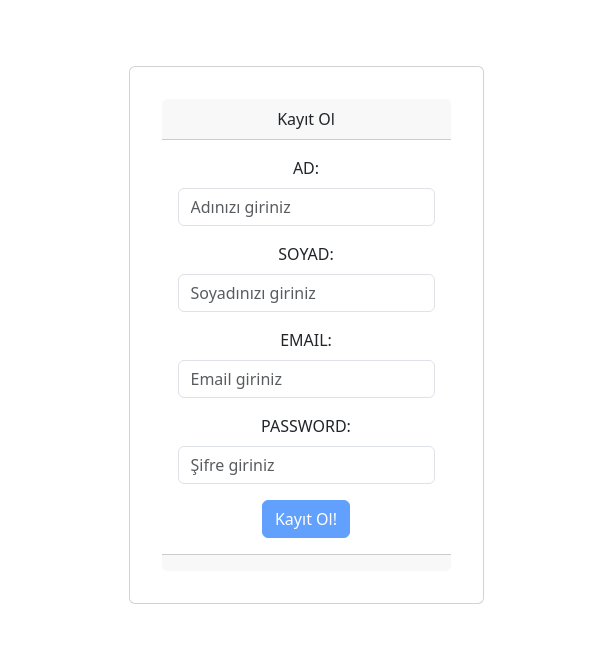
Register Page Validations › should display all error messages for invalid inputs
Type "A" into the field labelled "AD:" at (307, 207), box top-left (178, 188), bottom-right (435, 226)
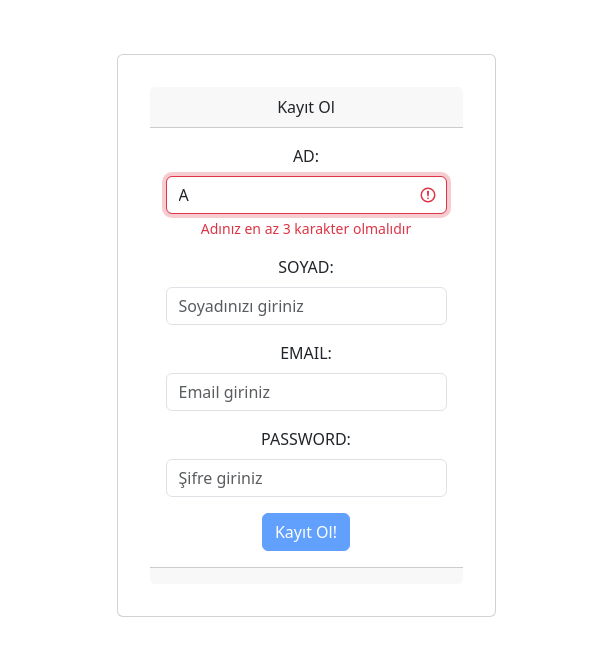
Now the text "Adınız en az 3 karakter olmalıdır" is shown, box top-left (201, 218), bottom-right (411, 238)
Type "B" into the field with id "soyad" at (307, 306), box top-left (166, 287), bottom-right (447, 325)
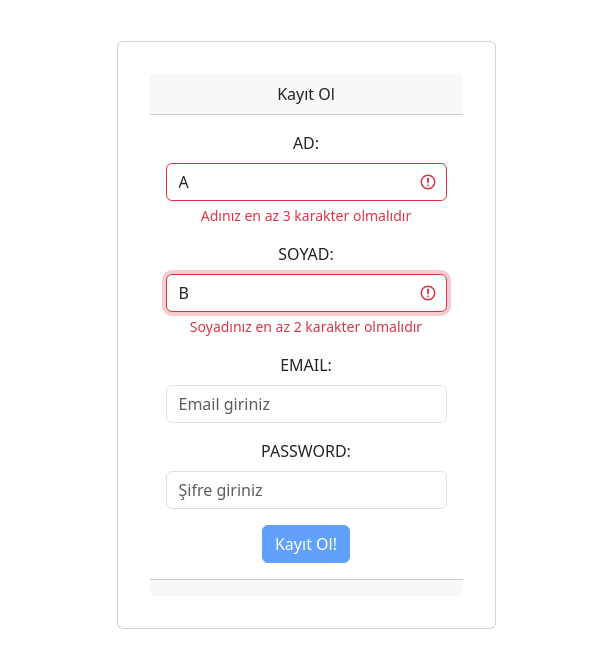
Now the text "Soyadınız en az 2 karakter olmalıdır" is shown, box top-left (190, 317), bottom-right (422, 336)
Type "gecersiz-mail" into the field with id "email" at (307, 404), box top-left (166, 385), bottom-right (447, 423)
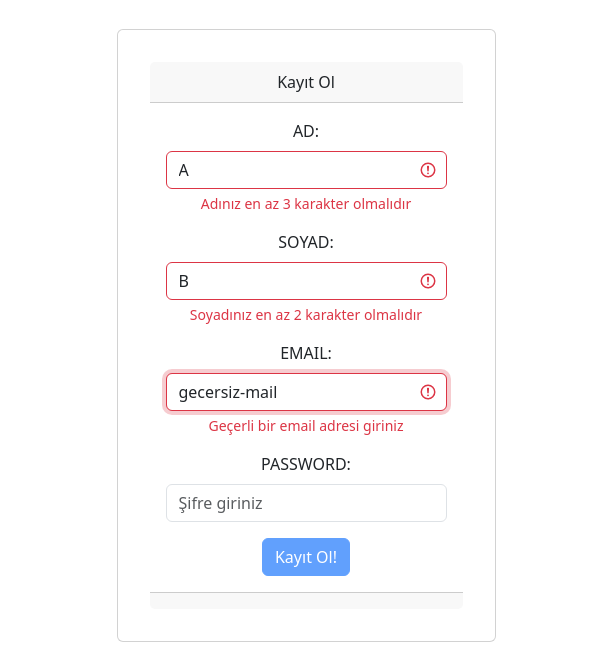
Now the text "Geçerli bir email adresi giriniz" is shown, box top-left (208, 416), bottom-right (404, 434)
Type "123" into the password field labelled "PASSWORD:" at (307, 503), box top-left (166, 484), bottom-right (447, 522)
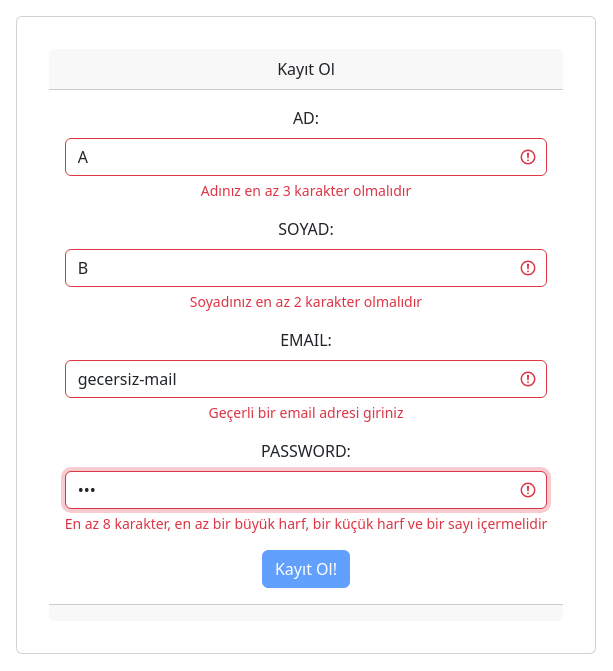
Now the text "En az 8 karakter, en az bir büyük harf, bir küçük harf ve bir sayı içermelidir" is shown, box top-left (65, 513), bottom-right (547, 534)
